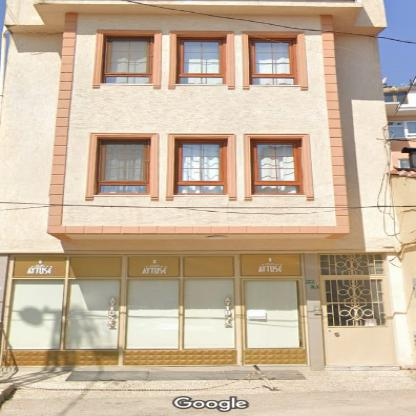door: (321, 276, 396, 365)
window: (1, 254, 305, 350), (96, 139, 149, 195), (251, 140, 303, 194), (174, 140, 226, 193), (102, 36, 153, 84), (176, 37, 226, 84), (248, 38, 298, 84), (318, 253, 390, 275), (390, 121, 414, 138), (384, 91, 407, 103), (399, 158, 409, 168)
